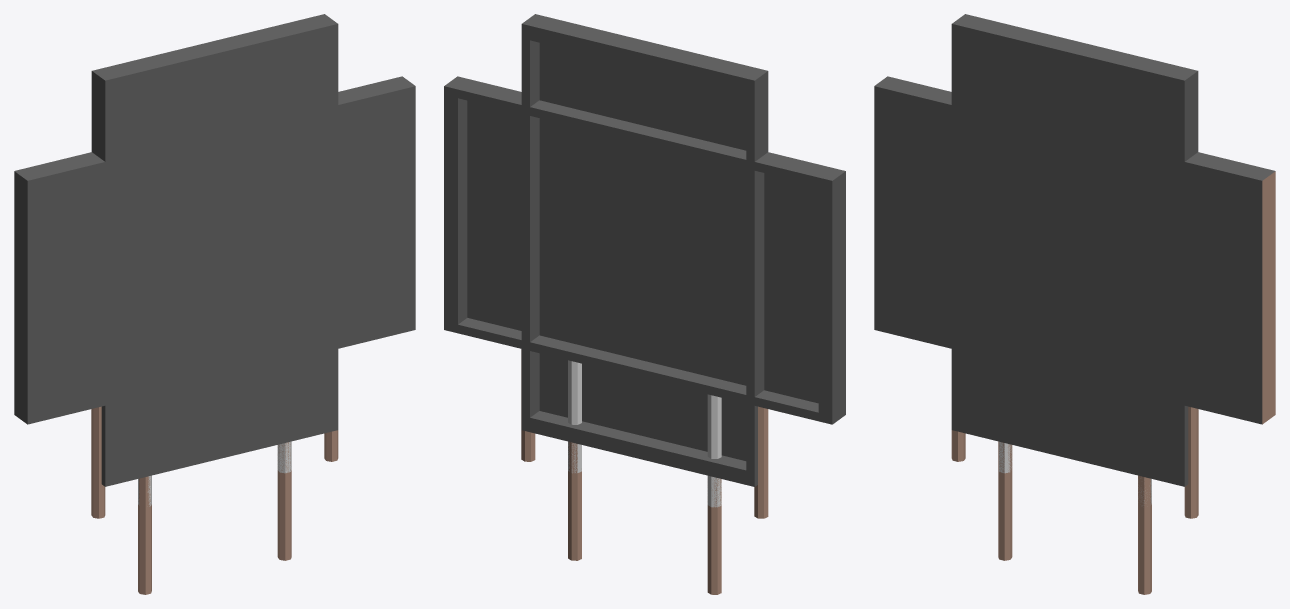
File: billboard.glb
3 renders of one model, left to right at view 1: azimuth 30°, elevation 25°; view 2: azimuth 150°, elevation 25°; view 3: azimuth 330°, elevation 25°, orthographic.
Parts seen in each view (by area): view 1: Billboard, Billboard-2; view 2: Billboard-2, Billboard, Cylinder.001, Cylinder; view 3: Billboard-2, Billboard.
Boxes of the visible parts, box(x1,y1,x2,y2) form: Billboard: box(14, 76, 415, 518); Billboard-2: box(91, 14, 338, 594); Billboard-2: box(521, 14, 768, 594); Billboard: box(444, 76, 845, 518); Cylinder.001: box(707, 394, 721, 507); Cylinder: box(568, 360, 581, 473); Billboard-2: box(951, 14, 1198, 594); Billboard: box(874, 76, 1275, 518).
Bounding box in the file's own units: 5 × 6.49 × 0.3.
